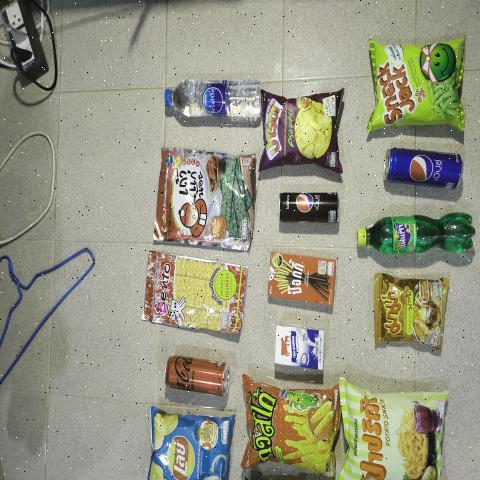bento_red: (146, 249, 250, 336)
coke_red: (161, 354, 235, 402)
crystal: (162, 73, 268, 132)
fanta_green: (355, 209, 480, 262)
lay_blue: (152, 411, 228, 480)
mama: (378, 271, 450, 354)
paprika: (338, 387, 447, 480)
party_purple: (267, 90, 338, 174)
pepsi_black: (276, 189, 340, 226)
pepsi_blue: (384, 146, 465, 196)
pokki: (270, 254, 334, 307)
snack_jack: (372, 44, 465, 129)
taokaenoi: (163, 149, 254, 246)
thai_denmark: (272, 324, 326, 376)
twisco: (240, 374, 341, 470)
